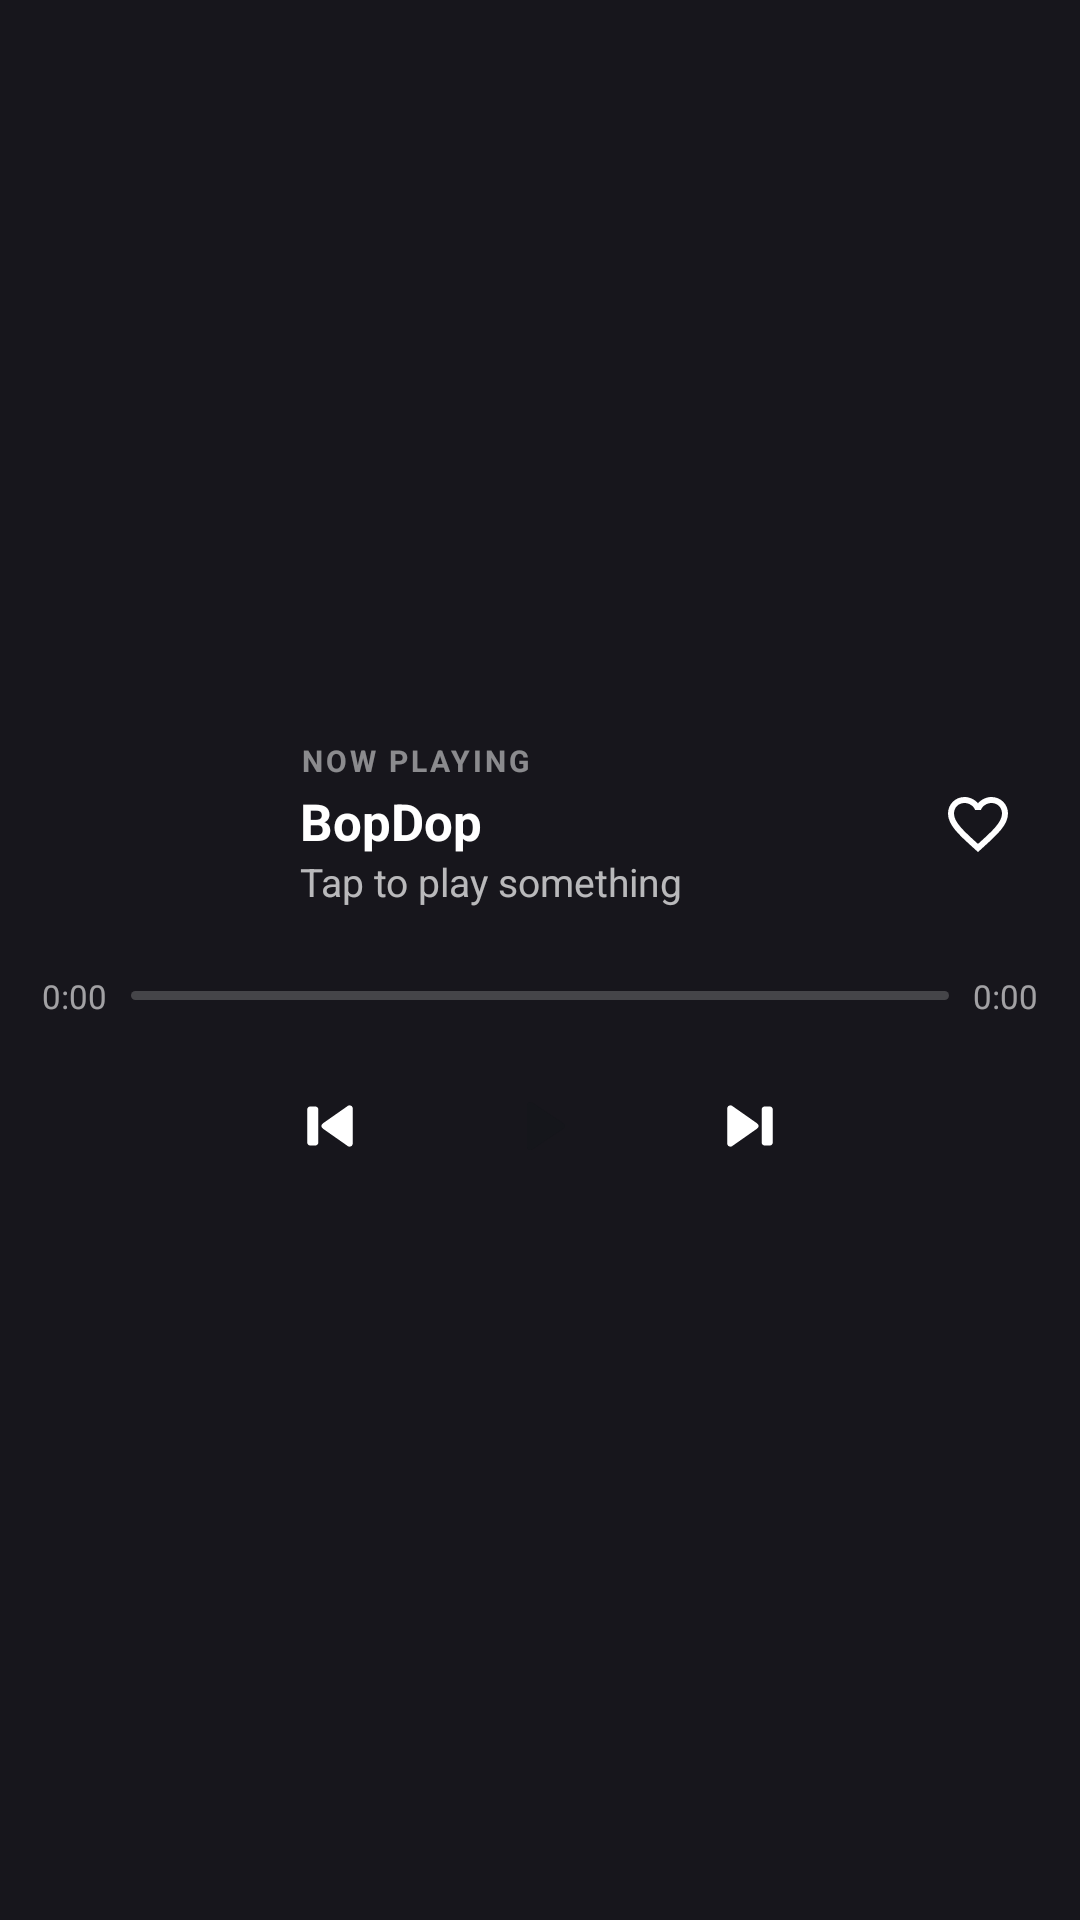

Screen size 1080×1920. Icon name, then its center in pixels as point (x, y):
Like: point (978, 824)
Next: point (750, 1126)
Previous: point (330, 1126)
